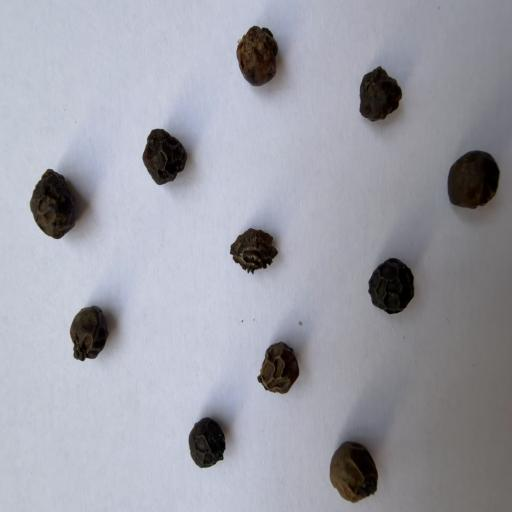Black_pepper: (346, 228, 421, 330), (308, 410, 382, 506), (433, 137, 509, 222), (349, 44, 405, 159), (130, 105, 198, 196), (166, 396, 229, 486), (217, 14, 281, 92), (52, 288, 111, 371), (29, 159, 80, 243), (243, 332, 298, 407)
papaya_seed: (218, 216, 278, 289)
